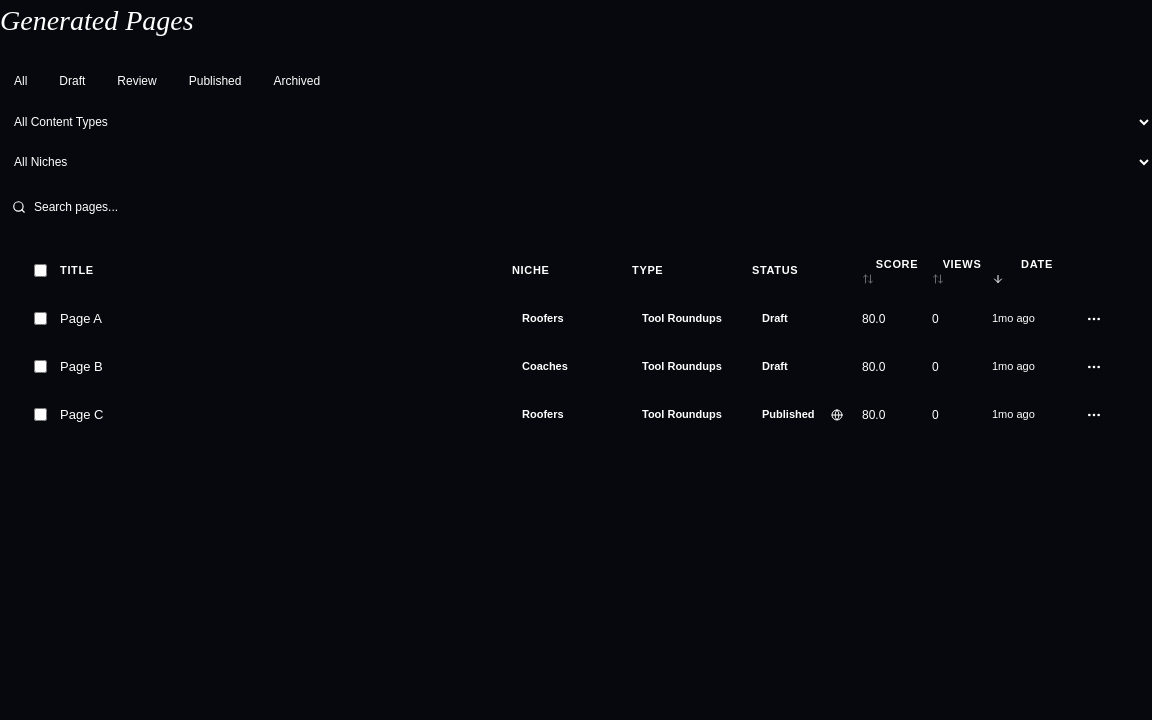
Test: GeneratedPagesManager › publishes row by row and reports blocked pages
Expected: the text titled "Page A" is shown, [60,309,102,328]
Click the checkbox named "Select Page A" at (40,318), box [34,312,46,325]
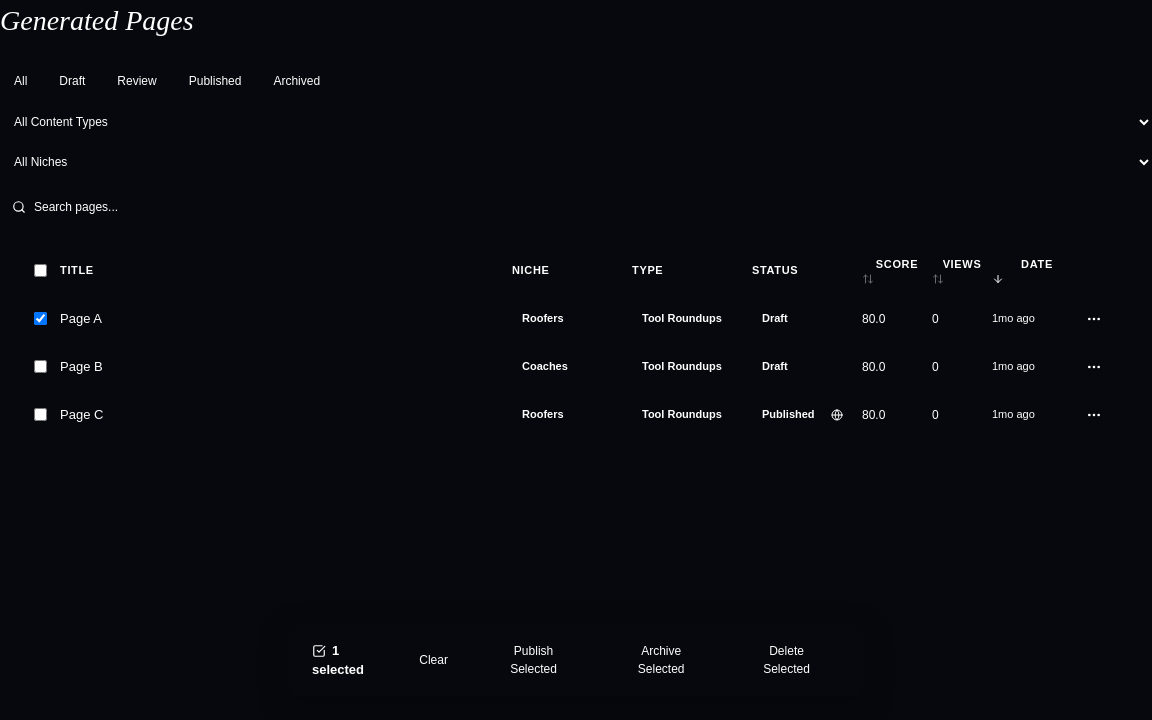
Click the checkbox named "Select Page B" at (40,366), box [34,360,46,373]
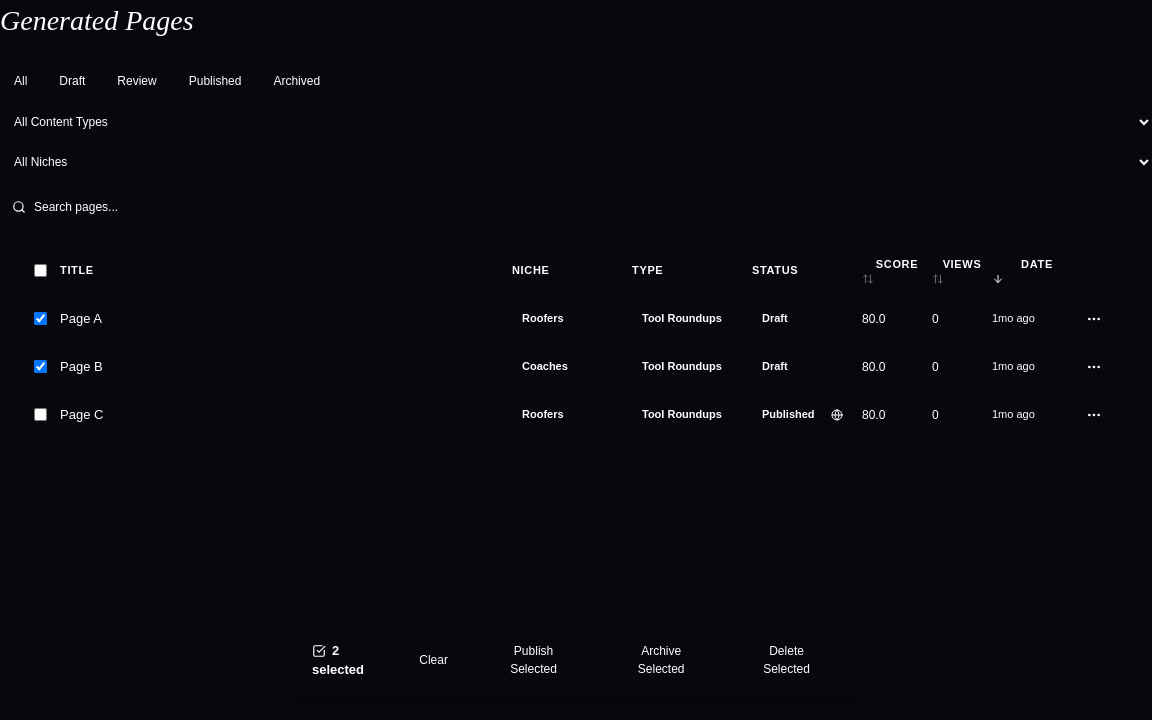
Click the button "Publish Selected" at (534,660), box [478,636,589,684]
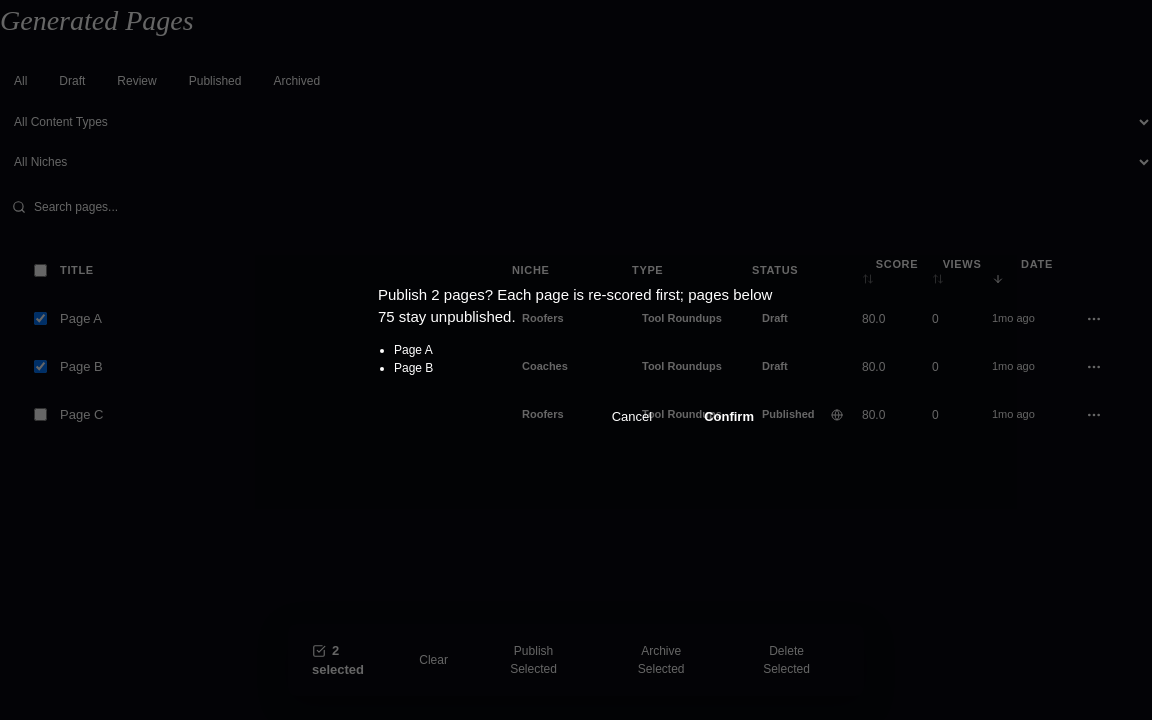
Click the button "Confirm" at (729,417), box [684,397,774,436]
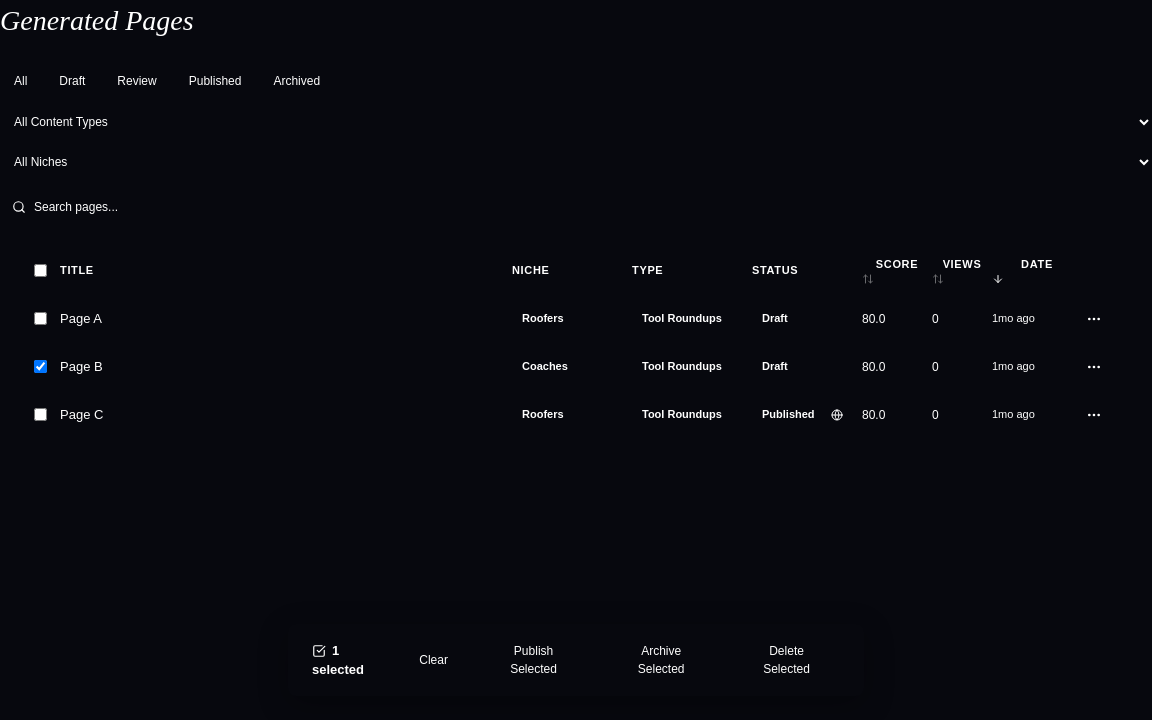
Expected: the text "1 selected" is shown, [312,642,364,677]
